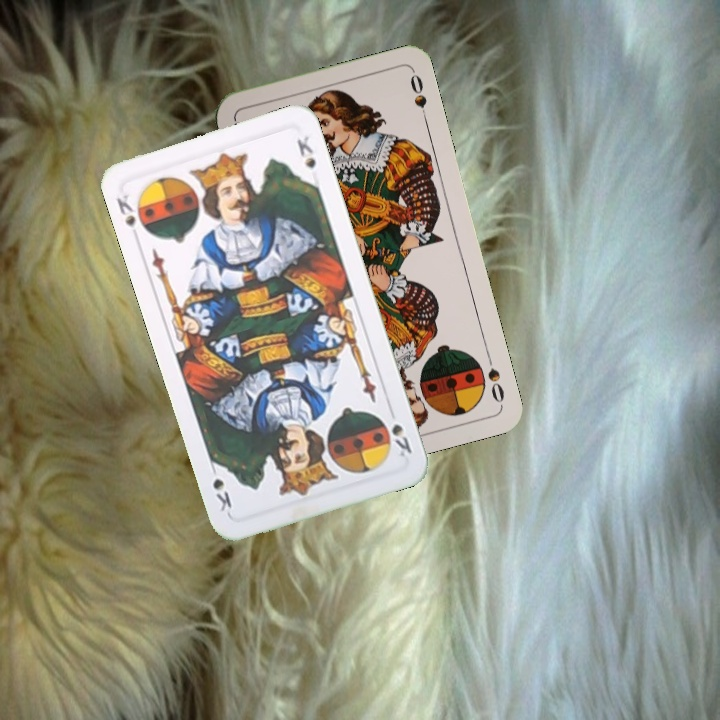SK: (112, 189, 151, 237), (379, 416, 415, 460)
SO: (483, 364, 507, 406)
